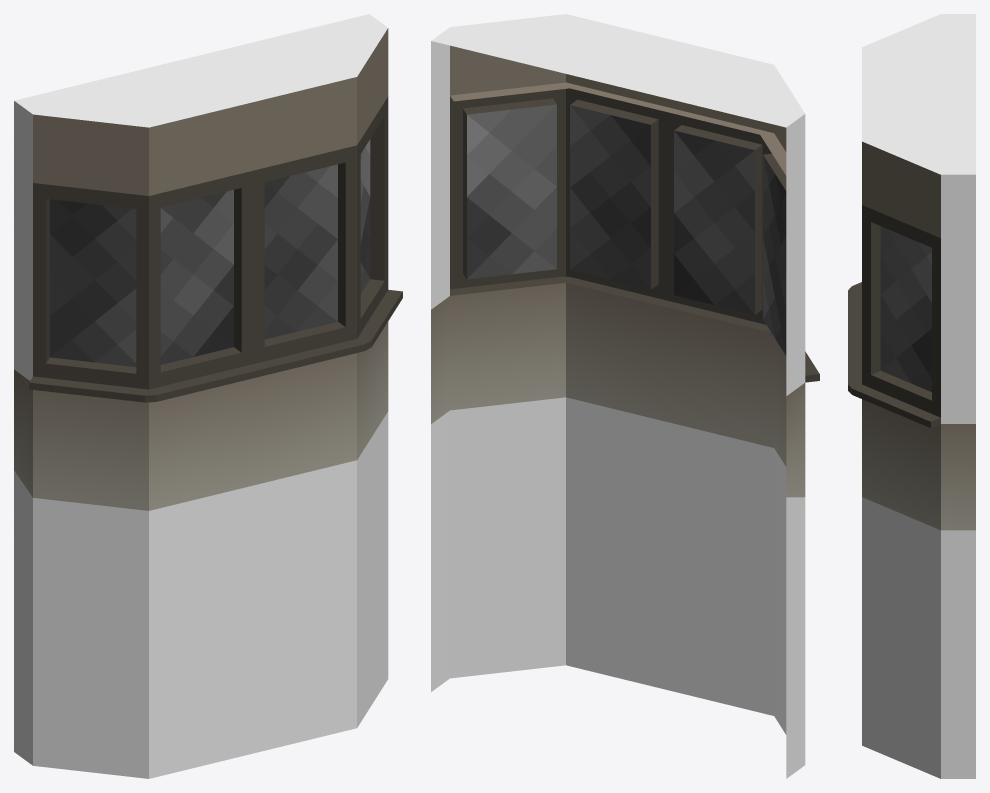
The model's file is Front_3.fbx.
3 views of the same model, side by side, from view 1: azimuth 30°, elevation 25°; view 2: azimuth 150°, elevation 25°; view 3: azimuth 270°, elevation 25° (orthographic). The views are drawn at different scales.
Parts seen in each view (by area): view 1: Front_B-Window.002, Front_B-Window.007, Front_B-Window.001, Front_B-Window.004, Front_B-Window.008, Front_B-Window.009, Front_B-Window.010, Front_B-Window.003, Front_B-Window.011; view 2: Front_B-Window.002, Front_B-Window.001, Front_B-Window.007, Front_B-Window.004, Front_B-Window.011, Front_B-Window.010, Front_B-Window.009, Front_B-Window.003, Front_B-Window.008; view 3: Front_B-Window.002, Front_B-Window.004, Front_B-Window.007, Front_B-Window.001, Front_B-Window.003, Front_B-Window.011.
Part boxes in pixels (x1,y1,x2,y2): Front_B-Window.002: [14, 411, 388, 778]; Front_B-Window.007: [29, 28, 402, 402]; Front_B-Window.001: [14, 321, 388, 510]; Front_B-Window.004: [14, 14, 387, 127]; Front_B-Window.008: [50, 199, 136, 366]; Front_B-Window.009: [160, 189, 233, 364]; Front_B-Window.010: [264, 164, 337, 339]; Front_B-Window.003: [14, 101, 32, 380]; Front_B-Window.011: [360, 139, 370, 293]; Front_B-Window.002: [431, 397, 805, 778]; Front_B-Window.001: [431, 283, 805, 497]; Front_B-Window.007: [450, 45, 819, 382]; Front_B-Window.004: [431, 14, 804, 127]; Front_B-Window.011: [467, 104, 556, 279]; Front_B-Window.010: [570, 105, 650, 289]; Front_B-Window.009: [674, 130, 754, 314]; Front_B-Window.003: [431, 41, 805, 395]; Front_B-Window.008: [763, 155, 786, 355]; Front_B-Window.002: [862, 497, 975, 778]; Front_B-Window.004: [862, 14, 975, 174]; Front_B-Window.007: [848, 141, 940, 427]; Front_B-Window.001: [862, 399, 975, 530]; Front_B-Window.003: [941, 174, 975, 423]; Front_B-Window.011: [880, 226, 931, 391].
Bounding box in the file's own units: 286 × 476 × 91.24.
